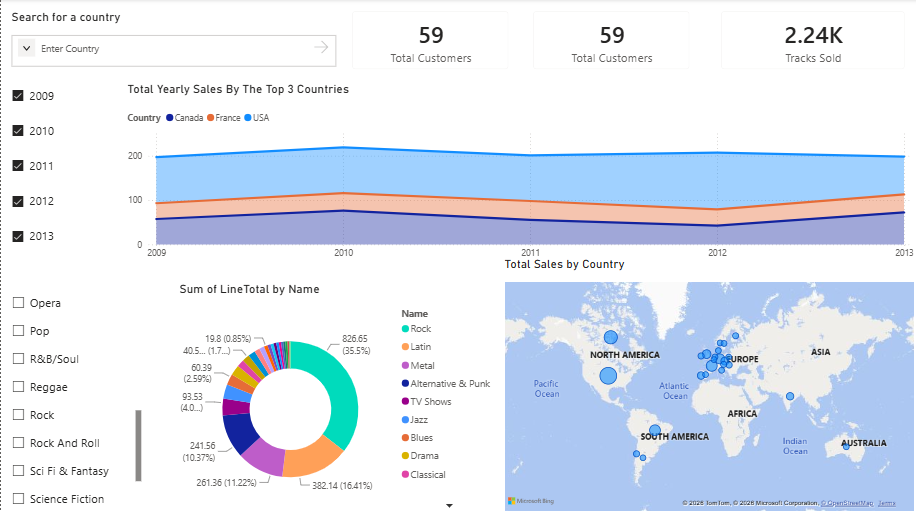

The page's visual inventory and layout, read from the dashboard file:
{"tool":"powerbi","page":{"name":"Main Dashboard","canvas":[1280,720],"ordinal":1},"visuals":[{"type":"stackedAreaChart","title":"Total Yearly Sales By The Top 3 Countries","fields":{"Category":["Calendar.Year Hierarchy.Year","Calendar.Year Hierarchy.Month"],"Series":["Customer.Country"],"Y":["Sum(InvoiceLine.LineTotal)"]},"box":[171.4,116.2,722.1,297.8],"z":0},{"type":"map","title":"Total Sales by Country","fields":{"Category":["Customer.Country"],"Size":["Sum(Invoice.Total)"]},"box":[697.4,443.1,581.2,277.5],"z":1000},{"type":"listSlicer","fields":{"Values":["Calendar.Year"]},"box":[9.8,104.7,152.1,291.6],"z":2000},{"type":"cardVisual","fields":{"Data":["CountNonNull(InvoiceLine.TrackId)"]},"box":[822.3,1.5,228,116],"z":3000},{"type":"cardVisual","fields":{"Data":["Count(Invoice.CustomerId)"]},"box":[1050.4,1.5,228,116],"z":4000},{"type":"cardVisual","fields":{"Data":["Sum(InvoiceLine.LineTotal)"]},"box":[389.4,1.5,228,116],"z":5000},{"type":"listSlicer","fields":{"Values":["Genre.Name"]},"box":[9.8,413,200.9,307],"z":6000},{"type":"donutChart","fields":{"Category":["Genre.Name"],"Y":["Sum(InvoiceLine.LineTotal)"]},"box":[244.1,443.1,453.3,276],"z":7000},{"type":"textSlicer","title":"Search for a country","fields":{"Values":["Customer.Country"]},"box":[10.1,16.1,370.3,82.5],"z":8000},{"type":"cardVisual","fields":{"Data":["Album.Average Order Value"]},"box":[594.2,0,228,116],"z":8001},{"type":"violinPlot4D46EB9EB3A141D9BA2289793175D971","title":"Order Distribution","fields":{"measure":["Sum(Invoice.Total)"],"sampling":["Invoice.InvoiceId"]},"box":[909.5,117.7,370.5,296.4],"z":8002}]}

Visuals, with their boxes in screenshot pixels (x1, y1, x2, y2), scaled from the page's 1280x720 canvas onto the 916x512 screenshot:
"Total Yearly Sales By The Top 3 Countries" stackedAreaChart: region(123, 83, 639, 294)
"Total Sales by Country" map: region(499, 315, 915, 511)
listSlicer - Calendar.Year: region(7, 74, 116, 282)
cardVisual - CountNonNull(InvoiceLine.TrackId): region(588, 1, 752, 84)
cardVisual - Count(Invoice.CustomerId): region(752, 1, 915, 84)
cardVisual - Sum(InvoiceLine.LineTotal): region(279, 1, 442, 84)
listSlicer - Genre.Name: region(7, 294, 151, 511)
donutChart - Genre.Name x Sum(InvoiceLine.LineTotal): region(175, 315, 499, 511)
"Search for a country" textSlicer: region(7, 11, 272, 70)
cardVisual - Album.Average Order Value: region(425, 0, 588, 82)
"Order Distribution" violinPlot4D46EB9EB3A141D9BA2289793175D971: region(651, 84, 915, 294)
